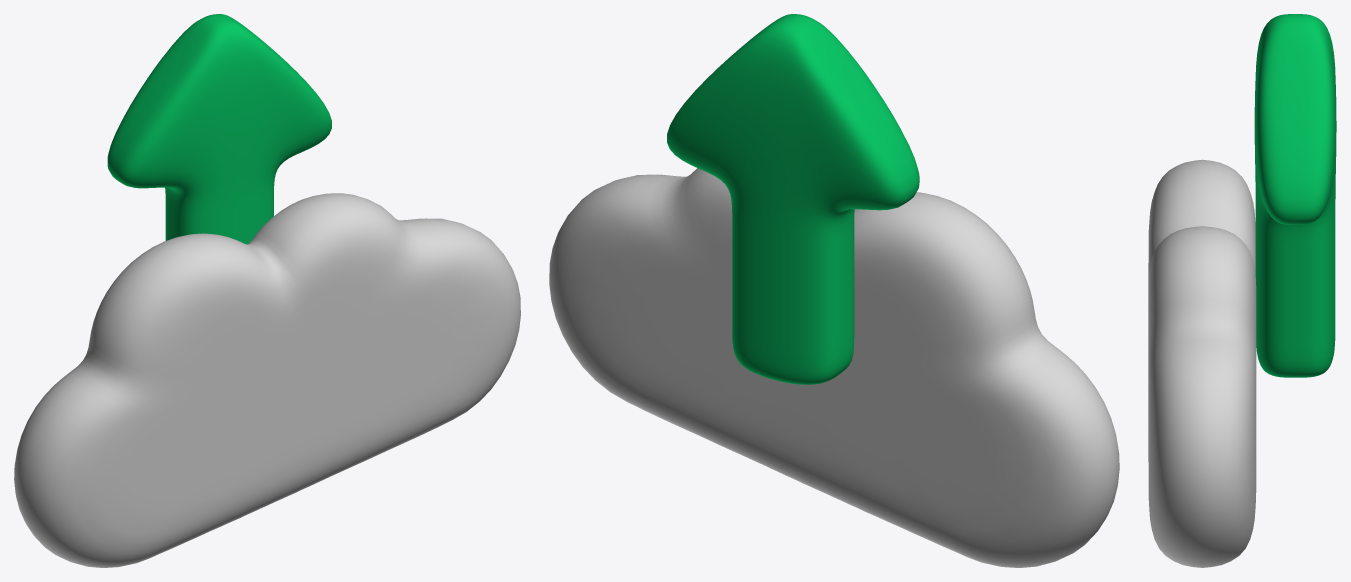
File: uploading-animated-3d-icon-1151498158736.glb
3 views of the same model, side by side, from view 1: azimuth 30°, elevation 25°; view 2: azimuth 150°, elevation 25°; view 3: azimuth 270°, elevation 25° (orthographic). The views are drawn at different scales.
Visible parts, largest first — view 1: Cloud.002, Arrow.001; view 2: Cloud.002, Arrow.001; view 3: Cloud.002, Arrow.001.
Boxes of the visible parts, bbox=[...] form: Cloud.002: bbox=[14, 193, 520, 567]; Arrow.001: bbox=[107, 14, 331, 244]; Cloud.002: bbox=[549, 168, 1119, 567]; Arrow.001: bbox=[667, 14, 919, 384]; Cloud.002: bbox=[1148, 159, 1256, 567]; Arrow.001: bbox=[1254, 14, 1336, 377].
Size of the model in its own units: 2.21 by 2.02 by 0.6559.
